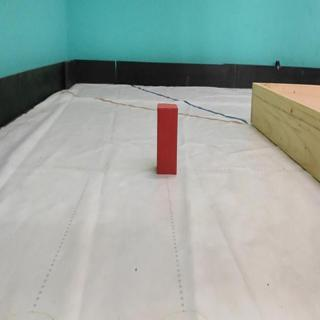redbox: (157, 103, 178, 174)
